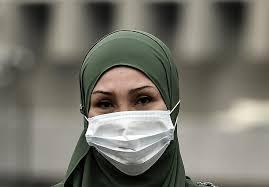Wearing Mask: (74, 23, 194, 179)
